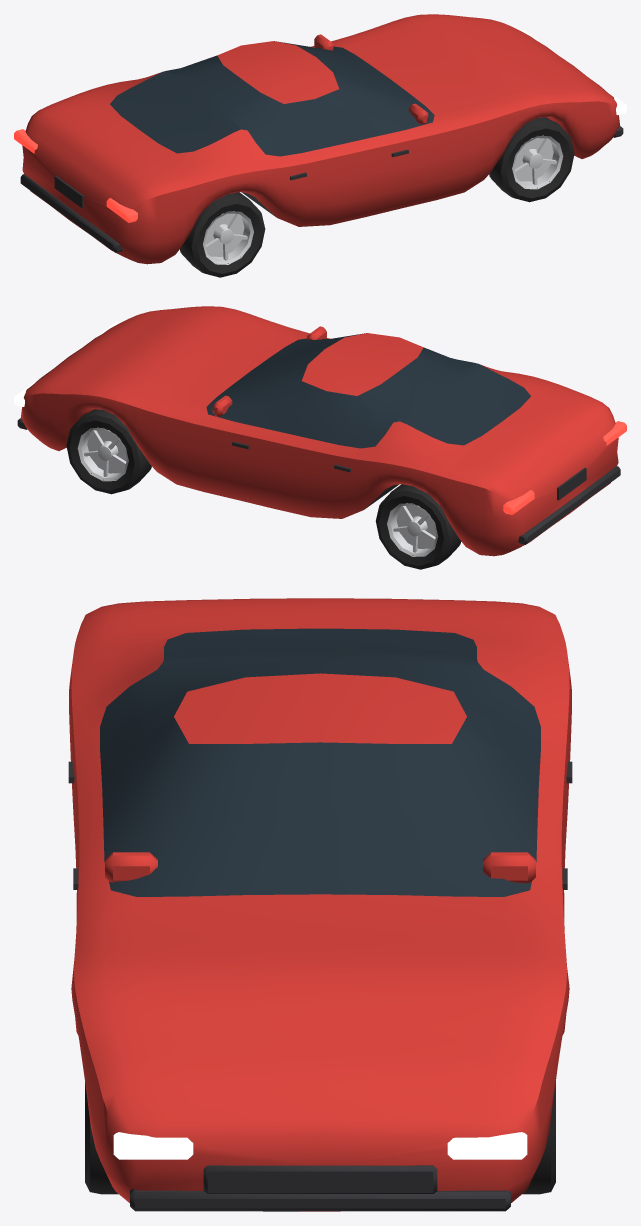
File: car_sports.glb
3 views of the same model, one above another, from view 1: azimuth 30°, elevation 25°; view 2: azimuth 150°, elevation 25°; view 3: azimuth 270°, elevation 25° (orthographic). The views are drawn at different scales.
Parts seen in each view (by area): view 1: Body, Wheel_RR, Wheel_FR; view 2: Body, Wheel_RL, Wheel_FL; view 3: Body, Wheel_FL, Wheel_FR.
Boxes of the visible parts, x1=… form: Body: x1=14, y1=14, x2=626, y2=264; Wheel_RR: x1=180, y1=192, x2=265, y2=277; Wheel_FR: x1=489, y1=117, x2=574, y2=202; Body: x1=14, y1=306, x2=626, y2=556; Wheel_RL: x1=375, y1=484, x2=461, y2=569; Wheel_FL: x1=66, y1=409, x2=151, y2=494; Body: x1=68, y1=598, x2=572, y2=1211; Wheel_FL: x1=522, y1=1081, x2=555, y2=1194; Wheel_FR: x1=85, y1=1082, x2=118, y2=1194.
Size of the model in its own units: 4.45 by 1.18 by 1.91.
